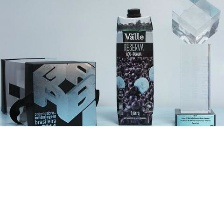carton: (111, 6, 155, 127)
